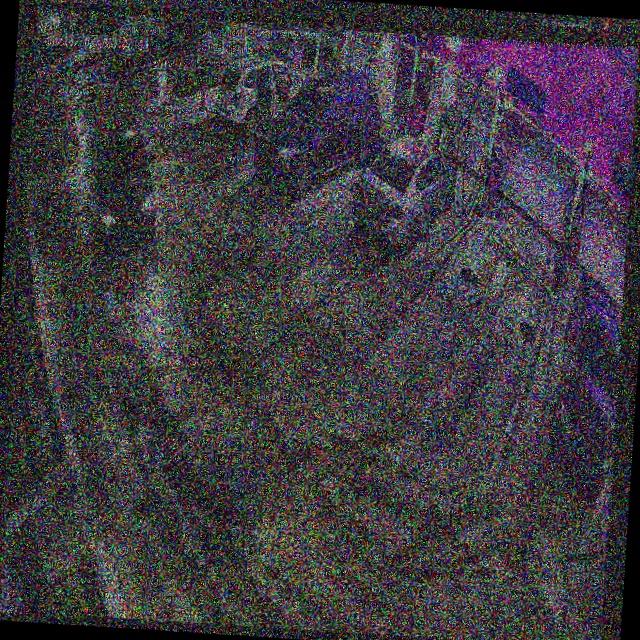Car: (251, 66, 382, 201), (353, 131, 457, 249), (90, 120, 163, 261)
